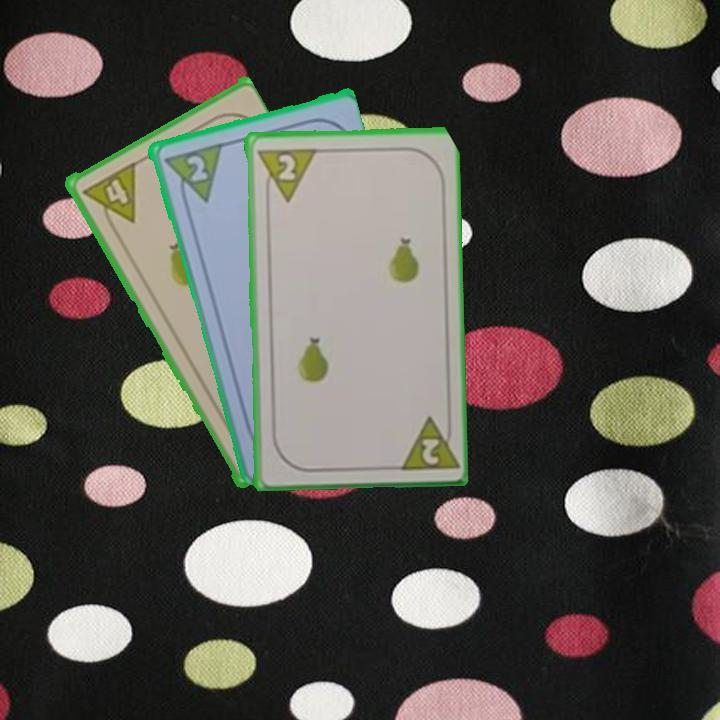2p: (393, 411, 458, 473), (253, 144, 318, 205), (182, 151, 211, 184)
4p: (78, 159, 139, 234)
